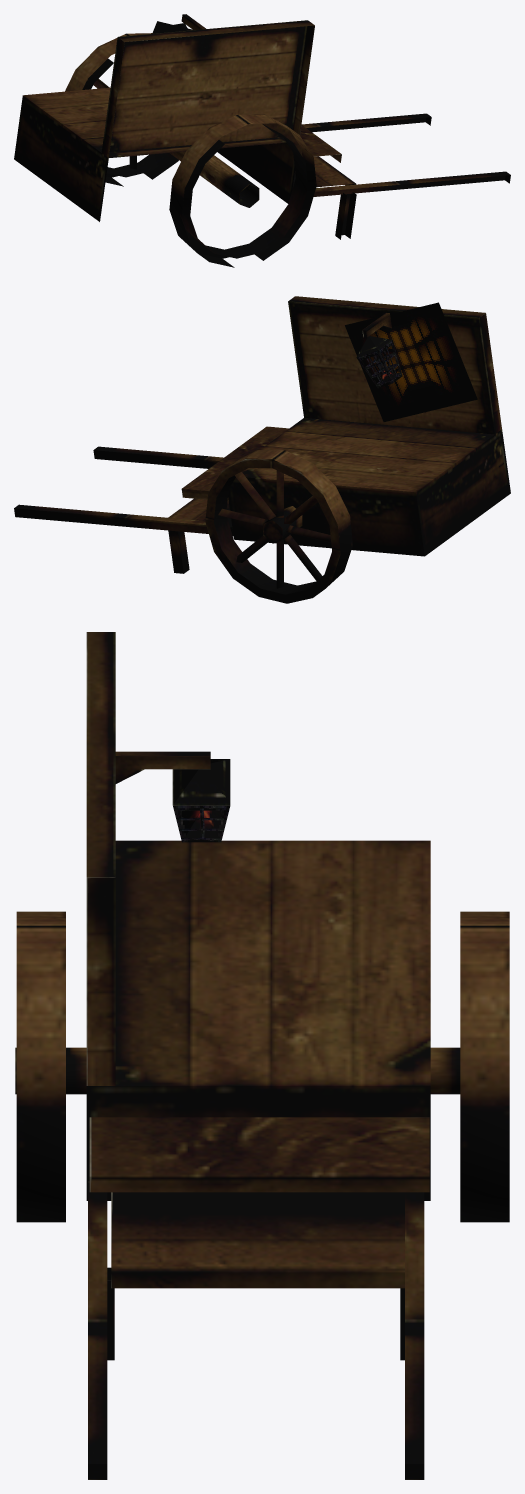
The model's file is Carriage01.obj.
3 views of the same model, one above another, from view 1: azimuth 30°, elevation 25°; view 2: azimuth 150°, elevation 25°; view 3: azimuth 270°, elevation 25° (orthographic). The views are drawn at different scales.
Visible parts, largest first — view 1: Mesh_0; view 2: Mesh_0, Mesh_2, Mesh_1; view 3: Mesh_0, Mesh_1.
Part boxes in pixels (box(x1,y1,x2,y2)): Mesh_0: box(14, 14, 510, 267); Mesh_0: box(14, 296, 510, 603); Mesh_2: box(345, 302, 477, 421); Mesh_1: box(356, 340, 402, 388); Mesh_0: box(15, 632, 509, 1479); Mesh_1: box(173, 805, 230, 842).
Size of the model in its own units: 3.59 by 2.16 by 1.87.
3 materials, 3 textured.
